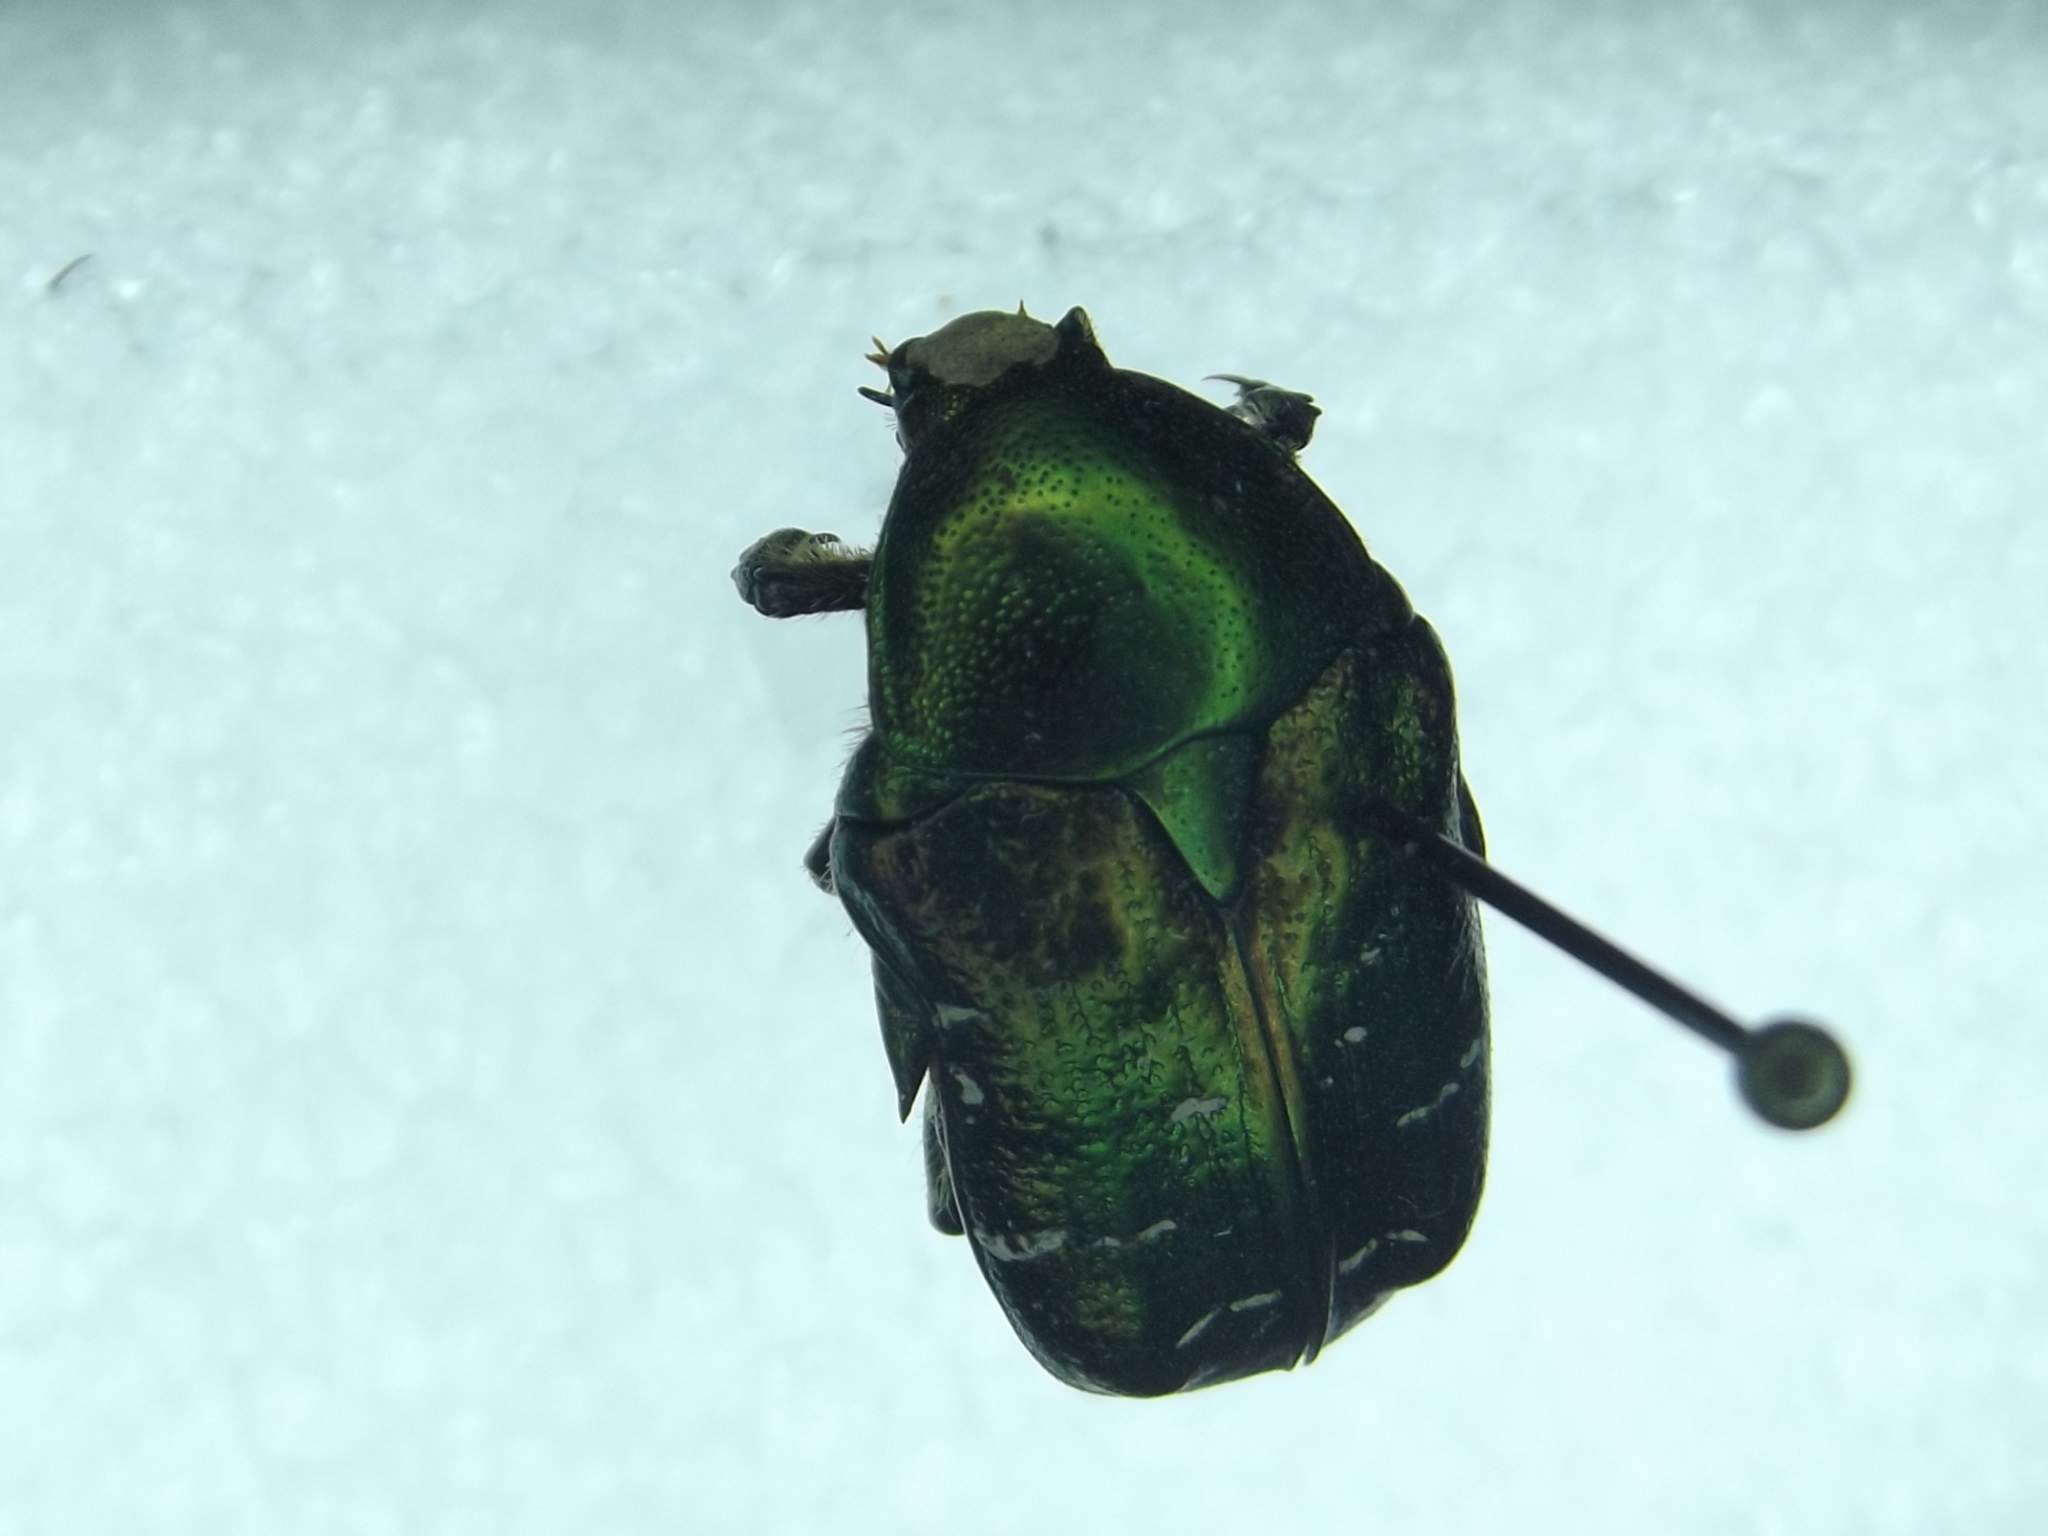Cetonia_kemali: (718, 279, 1503, 1405)
